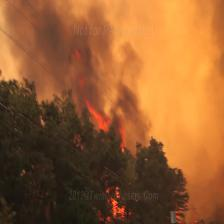fire: (67, 48, 156, 224)
smoke: (0, 0, 224, 141)
